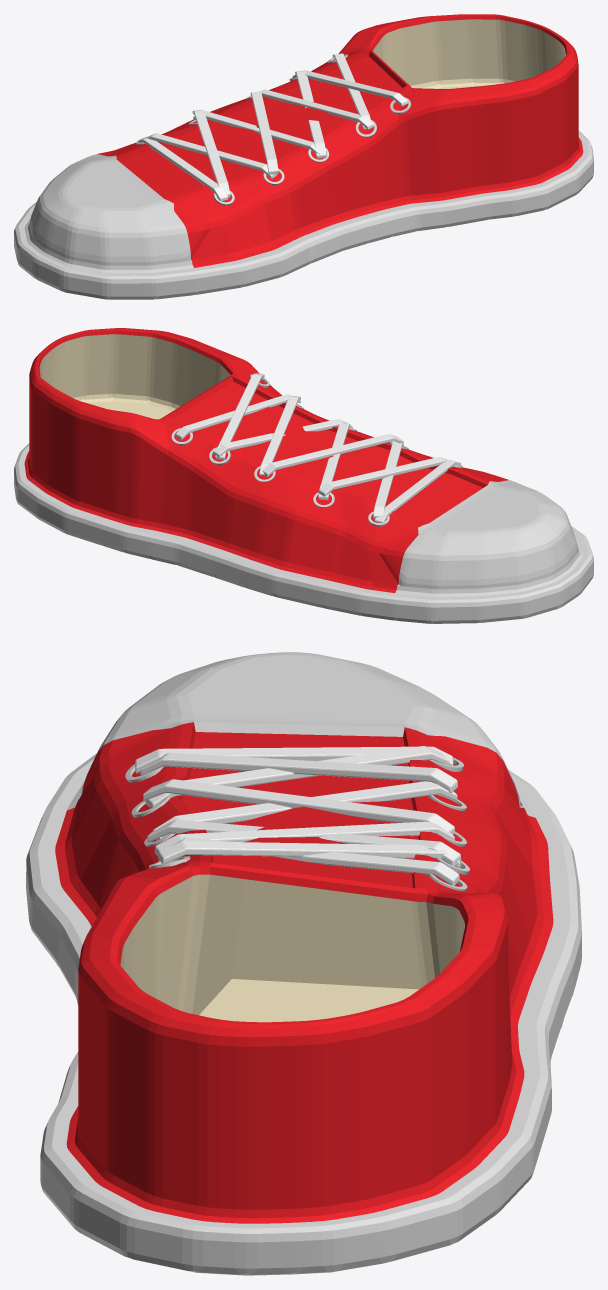
Rendered from shoe.fbx.
3 renders of one model, top to bottom at view 1: azimuth 30°, elevation 25°; view 2: azimuth 150°, elevation 25°; view 3: azimuth 270°, elevation 25°, orthographic. The views are drawn at different scales.
Visible parts, largest first — view 1: Cube.021; view 2: Cube.021; view 3: Cube.021.
Part boxes in pixels (<box>): Cube.021: <box>14,14,593,299</box>; Cube.021: <box>14,328,593,623</box>; Cube.021: <box>26,652,581,1275</box>.
Bounding box in the file's own units: 1256 × 266 × 559.
